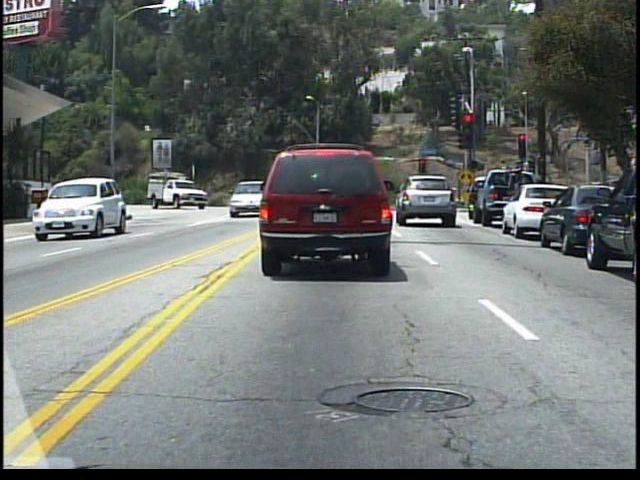person: (434, 181, 446, 210)
